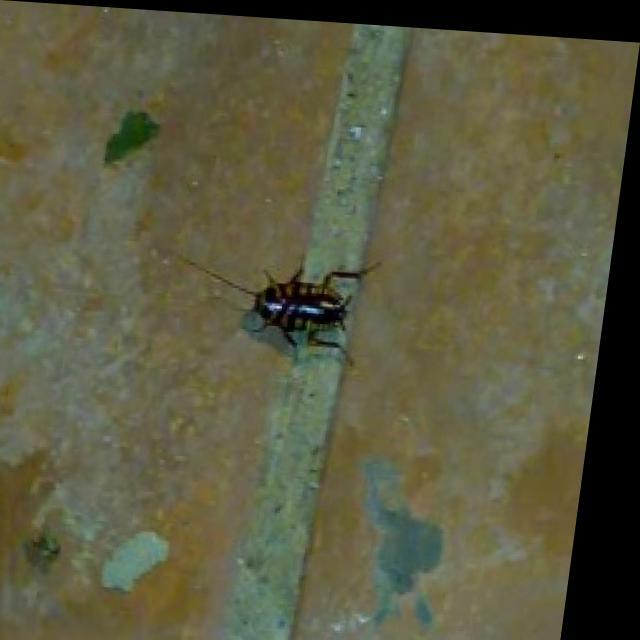cockroach: (214, 256, 368, 362)
